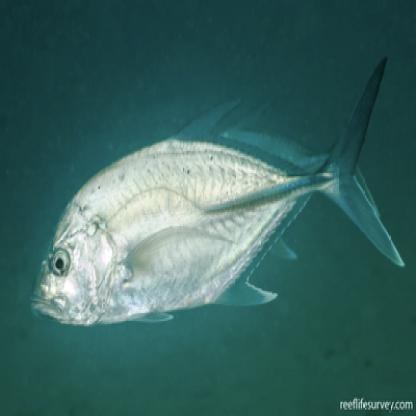jack: (18, 41, 412, 333)
